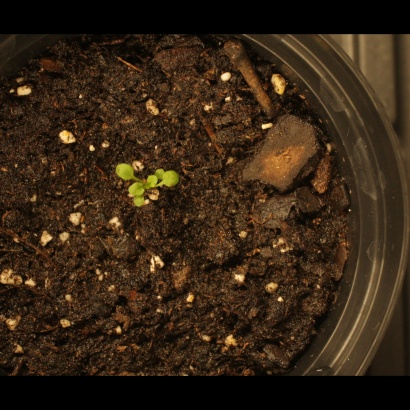leaf: (113, 160, 136, 183), (124, 175, 147, 198), (130, 194, 153, 217), (140, 171, 163, 194), (165, 170, 188, 193), (148, 161, 171, 184)
